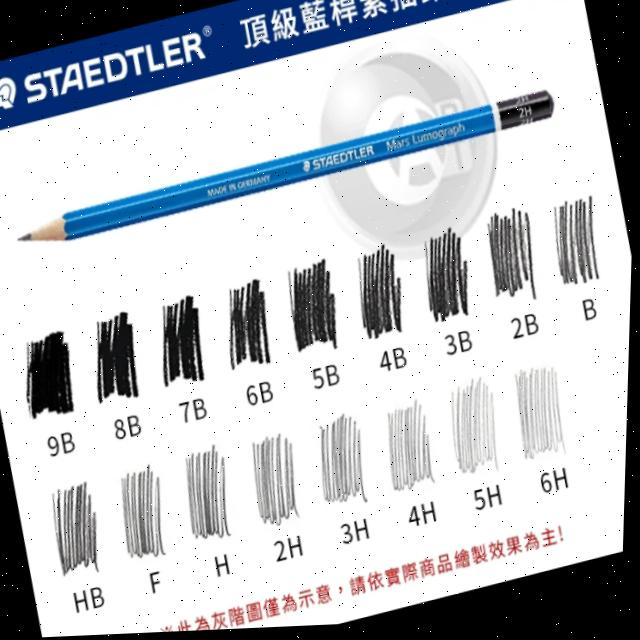pencil: (8, 85, 569, 263)
